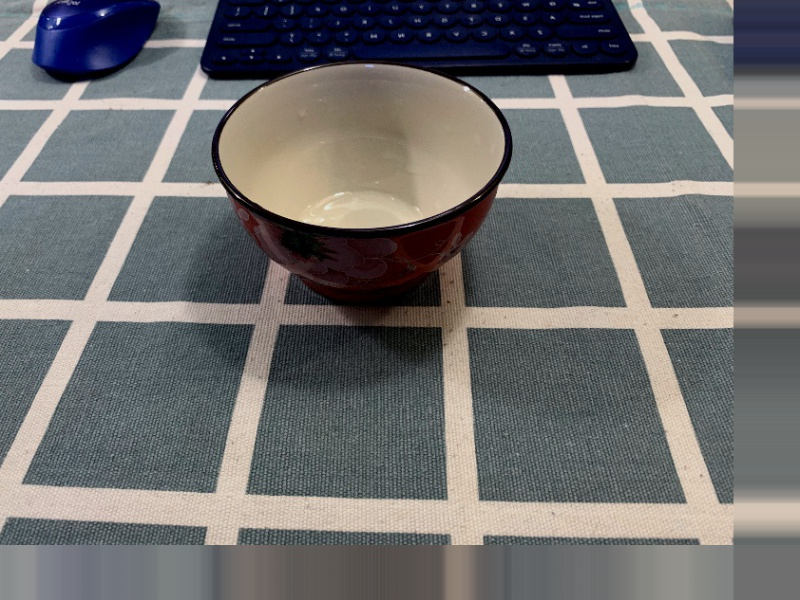bowl_small: (202, 54, 516, 312)
